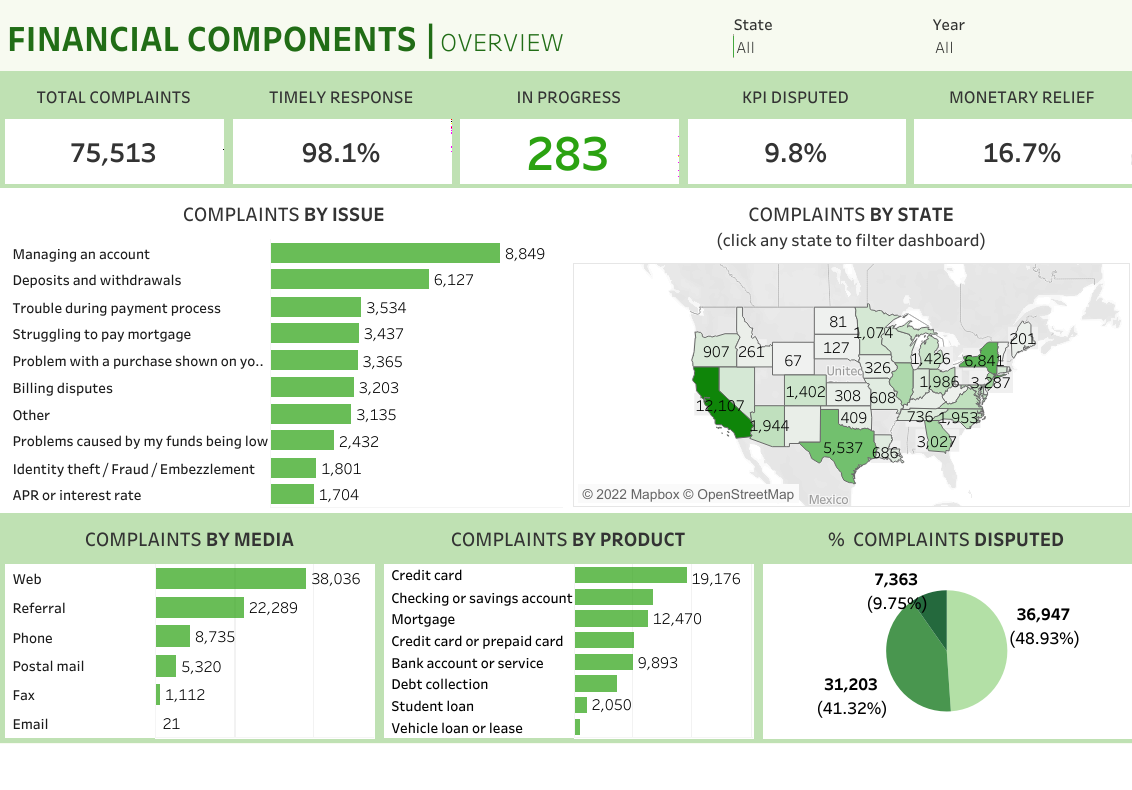

The dashboard page shown, as its layout file describes it:
{"tool":"tableau","page":{"name":"Financial Components Dashboard","canvas":[1000,1000],"units":"permille","ordinal":0},"visuals":[{"type":"legend","title":"05 States","param":"[federated.0n6zf7502fsw0s1btotan1lfddun].[__tableau_internal_object_id__].[cnt:F","box":[0,0,603.5,85.8]},{"type":"text","box":[1.9,3.5,387.8,87]},{"type":"filter","title":"03 Issue","param":"[federated.0n6zf7502fsw0s1btotan1lfddun].[none:State:nk]","box":[388.4,4.7,109.4,83.4]},{"type":"filter","title":"03 Issue","param":"[federated.0n6zf7502fsw0s1btotan1lfddun].[yr:Date Sumbited:ok]","box":[494.7,4.7,107.5,82.3]},{"type":"worksheet","title":"KPI Total","mark":"Automatic","box":[0,89.3,120.7,146.9]},{"type":"worksheet","title":"KPI TR","mark":"Automatic","box":[120.7,89.3,120.7,146.9]},{"type":"worksheet","title":"KPI Progress","mark":"Automatic","box":[241.4,89.3,120.7,146.9]},{"type":"worksheet","title":"KPI Disputed","mark":"Automatic","box":[362,89.3,120.7,146.9]},{"type":"worksheet","title":"KPI MR","mark":"Automatic","box":[482.7,89.3,120.7,146.9]},{"type":"worksheet","title":"03 Issue","mark":"Automatic","rows":["Issue"],"cols":["Financial Consumer Complaints.csv_0E4DAF9EF4E248F7A29B13D89D"],"box":[0,236.2,301.7,411.3]},{"type":"worksheet","title":"05 States","mark":"Automatic","box":[301.7,236.2,301.7,411.3]},{"type":"worksheet","title":"01 Media","mark":"Automatic","rows":["Submitted via"],"cols":["Financial Consumer Complaints.csv_0E4DAF9EF4E248F7A29B13D89D"],"box":[0,647.5,201.1,290.2]},{"type":"worksheet","title":"02 Product","mark":"Automatic","rows":["Product"],"cols":["Financial Consumer Complaints.csv_0E4DAF9EF4E248F7A29B13D89D"],"box":[201.1,647.5,201.1,290.2]},{"type":"worksheet","title":"04 Pie chart","mark":"Pie","box":[402.3,647.5,201.1,290.2]}]}

Visuals, with their boxes on the dashboard's canvas, which has no fixed pixel size, in thousandths of its width and height (x1, y1, x2, y2). These are canvas units, not pixel positions in the 1132x790 screenshot, which may show the page scaled, cropped or inside an application window:
"05 States" legend: <region>0, 0, 604, 86</region>
text: <region>2, 4, 390, 90</region>
"03 Issue" filter: <region>388, 5, 498, 88</region>
"03 Issue" filter: <region>495, 5, 602, 87</region>
"KPI Total" worksheet: <region>0, 89, 121, 236</region>
"KPI TR" worksheet: <region>121, 89, 241, 236</region>
"KPI Progress" worksheet: <region>241, 89, 362, 236</region>
"KPI Disputed" worksheet: <region>362, 89, 483, 236</region>
"KPI MR" worksheet: <region>483, 89, 603, 236</region>
"03 Issue" worksheet: <region>0, 236, 302, 648</region>
"05 States" worksheet: <region>302, 236, 603, 648</region>
"01 Media" worksheet: <region>0, 648, 201, 938</region>
"02 Product" worksheet: <region>201, 648, 402, 938</region>
"04 Pie chart" worksheet (Pie marks): <region>402, 648, 603, 938</region>
